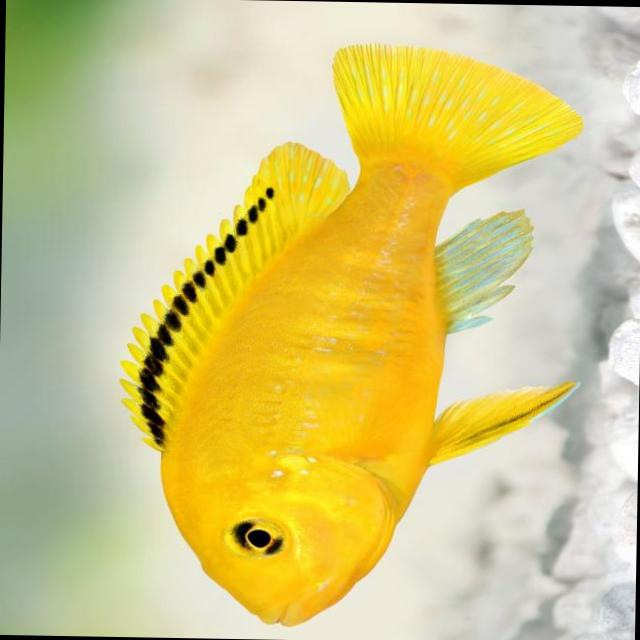YellowCichlid: (102, 18, 614, 634)
